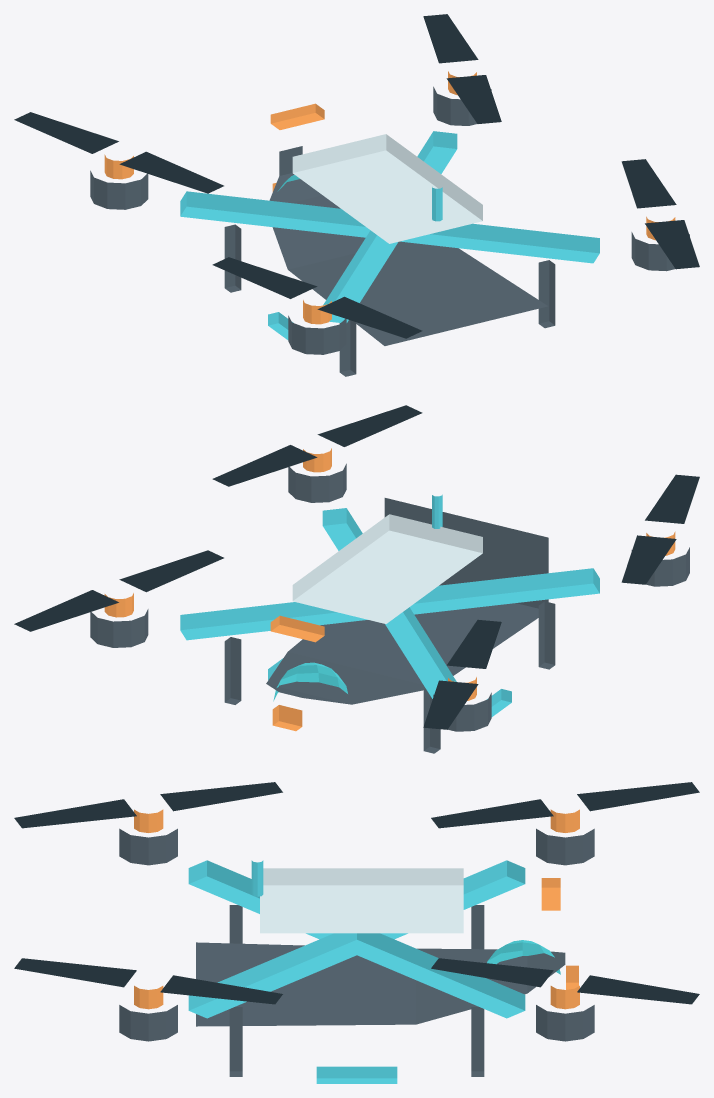
The model's file is fleet-drone.gltf.
The picture shows the model from 3 angles, top to bottom: view 1: azimuth 30°, elevation 25°; view 2: azimuth 150°, elevation 25°; view 3: azimuth 270°, elevation 25°; orthographic projection. The views are drawn at different scales.
Visible parts, largest first — view 1: fuselage, top armor, diagonal arm front-right to rear-left, diagonal arm front-left to rear-right, rotor blades rear-left, rotor blades front-left, rotor blades front-right, rotor blades rear-right, motor front-left, motor rear-left, landing leg rear-right, motor rear-right (+4 smaller); view 2: fuselage, top armor, diagonal arm front-left to rear-right, diagonal arm front-right to rear-left, rotor blades front-right, rotor blades rear-right, rotor blades front-left, rotor blades rear-left, motor front-right, motor rear-right, landing leg front-right, landing leg rear-left (+6 smaller); view 3: fuselage, top armor, diagonal arm front-left to rear-right, diagonal arm front-right to rear-left, rotor blades rear-left, rotor blades rear-right, rotor blades front-right, rotor blades front-left, motor front-right, motor rear-right, motor front-left, motor rear-left (+11 smaller).
Part boxes in pixels (x1,y1,x2,y2): fuselage: [269, 146, 547, 345]; top armor: [292, 134, 482, 243]; diagonal arm front-right to rear-left: [180, 191, 599, 263]; diagonal arm front-left to rear-right: [323, 131, 457, 322]; rotor blades rear-left: [212, 257, 422, 338]; rotor blades front-left: [14, 112, 223, 193]; rotor blades front-right: [423, 14, 501, 123]; rotor blades rear-right: [621, 159, 699, 269]; motor front-left: [90, 170, 148, 209]; motor rear-left: [288, 315, 346, 354]; landing leg rear-right: [538, 260, 555, 328]; motor rear-right: [631, 232, 689, 271]; fuselage: [266, 498, 548, 704]; top armor: [292, 514, 482, 623]; diagonal arm front-left to rear-right: [180, 568, 599, 640]; diagonal arm front-right to rear-left: [322, 508, 456, 698]; rotor blades front-right: [14, 550, 223, 631]; rotor blades rear-right: [212, 405, 422, 486]; rotor blades front-left: [423, 619, 501, 729]; rotor blades rear-left: [621, 474, 699, 584]; motor front-right: [90, 609, 148, 647]; motor rear-right: [288, 463, 346, 502]; landing leg front-right: [224, 637, 241, 704]; landing leg rear-left: [538, 601, 555, 669]; fuselage: [196, 942, 565, 1026]; top armor: [260, 868, 463, 933]; diagonal arm front-left to rear-right: [188, 860, 525, 1018]; diagonal arm front-right to rear-left: [188, 860, 525, 1018]; rotor blades rear-left: [14, 782, 282, 828]; rotor blades rear-right: [14, 958, 282, 1004]; rotor blades front-right: [431, 958, 699, 1004]; rotor blades front-left: [431, 782, 699, 828]; motor front-right: [536, 1005, 594, 1041]; motor rear-right: [119, 1005, 177, 1041]; motor front-left: [536, 828, 594, 865]; motor rear-left: [119, 828, 177, 865].
Bounding box in the file's own units: 2.22 × 0.7975 × 2.9.
